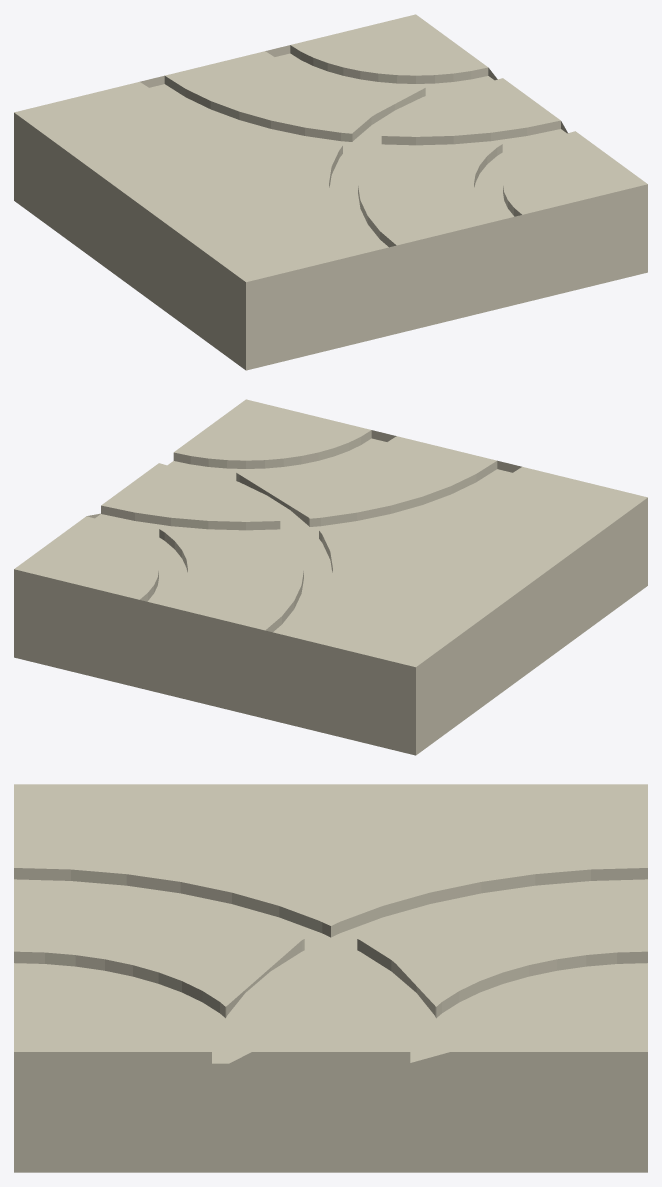
File: roadtile_102.glb
The picture shows the model from 3 angles, top to bottom: view 1: azimuth 30°, elevation 25°; view 2: azimuth 150°, elevation 25°; view 3: azimuth 270°, elevation 25°; orthographic projection. The views are drawn at different scales.
Parts seen in each view (by area): view 1: Mesh1 Group1 Model; view 2: Mesh1 Group1 Model; view 3: Mesh1 Group1 Model.
Boxes of the visible parts, x1,y1,x2,y2 form: Mesh1 Group1 Model: (14, 14, 647, 370); Mesh1 Group1 Model: (14, 399, 647, 755); Mesh1 Group1 Model: (14, 784, 647, 1172).
Size of the model in its own units: 3 by 0.63 by 3.
